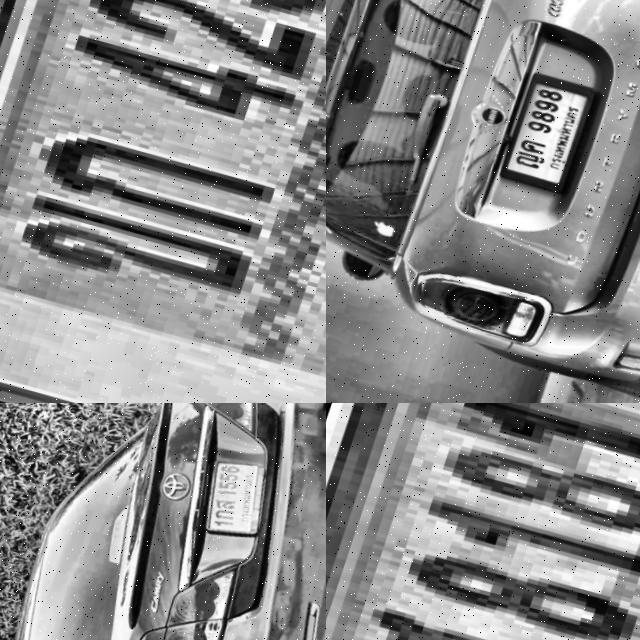license-plate: (0, 0, 326, 403), (326, 403, 640, 640), (501, 72, 598, 188), (192, 445, 287, 546)
